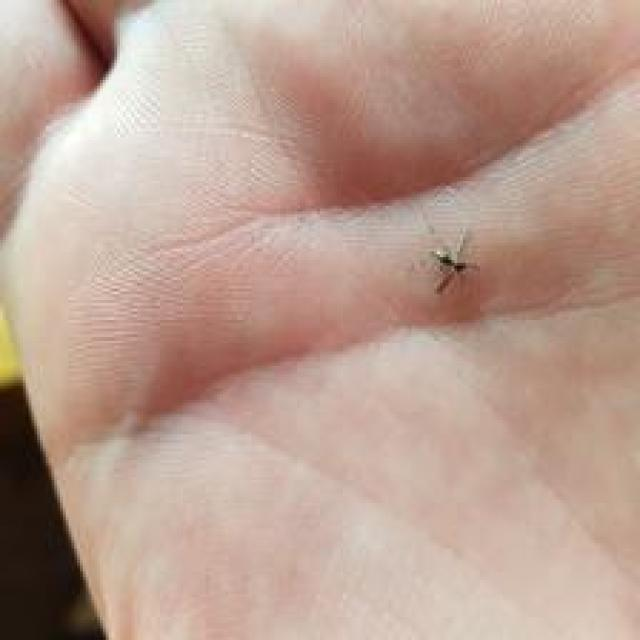Aedes albopictus: (426, 227, 480, 296)
